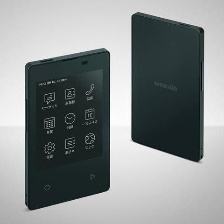phone: (21, 44, 113, 213), (128, 6, 208, 164)
